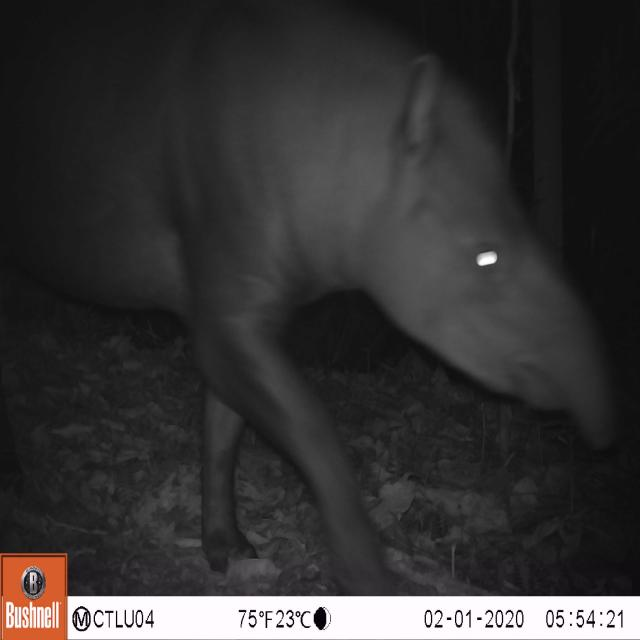Lowland Tapir: (0, 13, 604, 576)
